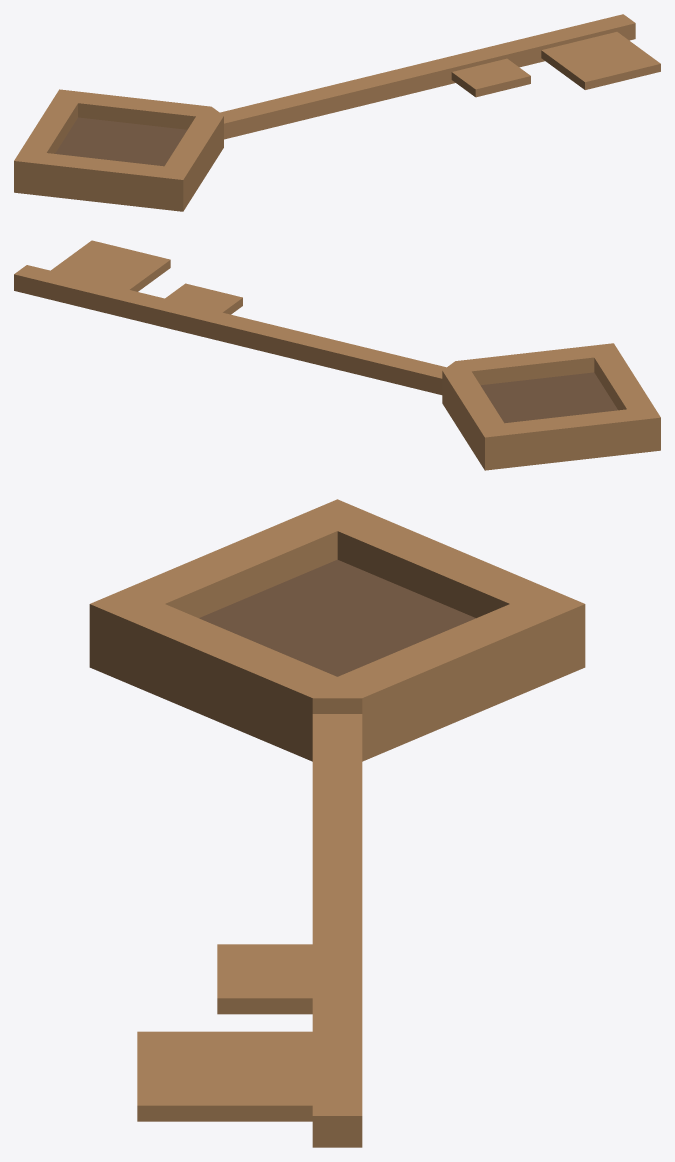
The model's file is Chave_Quadrada.fbx.
The picture shows the model from 3 angles, top to bottom: view 1: azimuth 30°, elevation 25°; view 2: azimuth 150°, elevation 25°; view 3: azimuth 270°, elevation 25°; orthographic projection. The views are drawn at different scales.
Parts seen in each view (by area): view 1: Chave_Quadrada; view 2: Chave_Quadrada; view 3: Chave_Quadrada.
Part boxes in pixels (box(x1,y1,x2,y2)): Chave_Quadrada: box(14, 14, 660, 211); Chave_Quadrada: box(14, 240, 660, 470); Chave_Quadrada: box(89, 499, 585, 1147).
Size of the model in its own units: 811 by 40 by 283.
